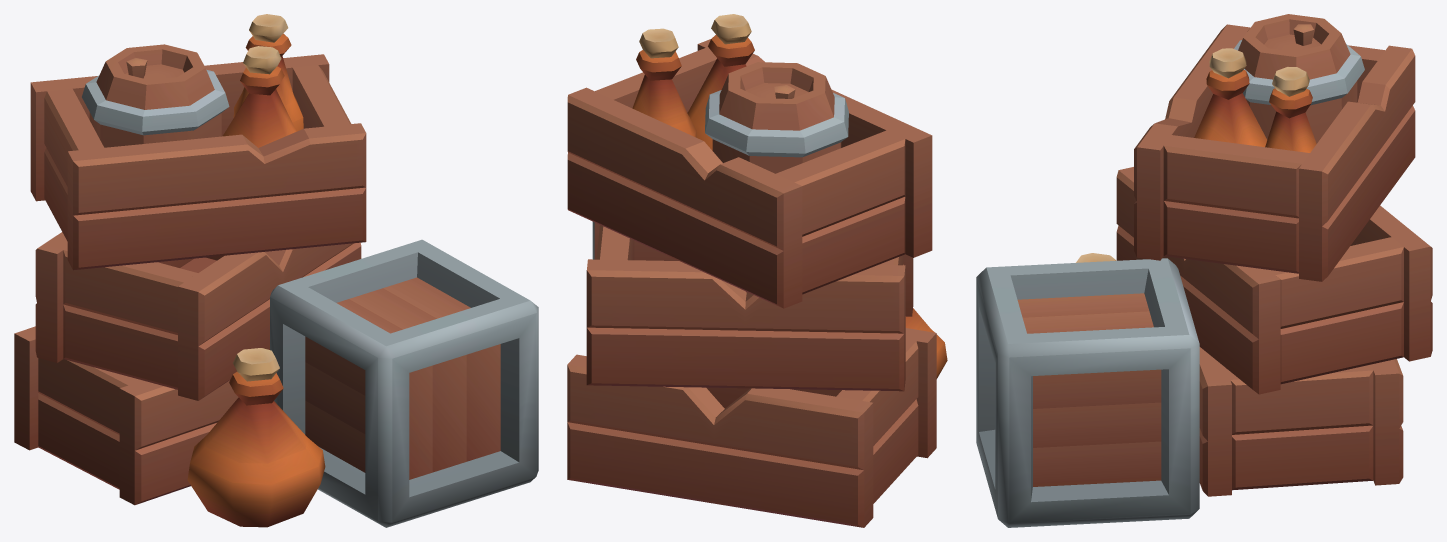
File: crates_stacked.glb
3 views of the same model, side by side, from view 1: azimuth 30°, elevation 25°; view 2: azimuth 150°, elevation 25°; view 3: azimuth 270°, elevation 25° (orthographic). The views are drawn at different scales.
Parts seen in each view (by area): view 1: crates_stacked; view 2: crates_stacked; view 3: crates_stacked.
Boxes of the visible parts, x1,y1,x2,y2 form: crates_stacked: (14, 14, 538, 527); crates_stacked: (567, 14, 947, 527); crates_stacked: (976, 14, 1432, 527).
Size of the model in its own units: 2.09 by 2.14 by 2.25.
1 material, 1 textured.
